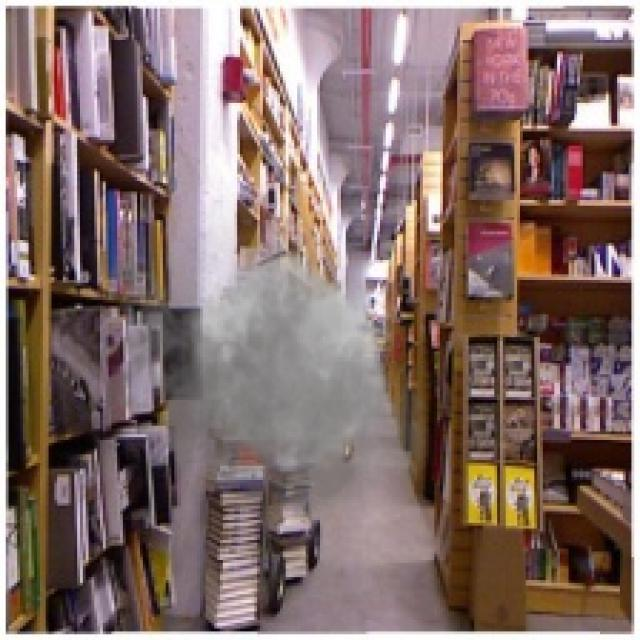smoke: (94, 189, 443, 540)
